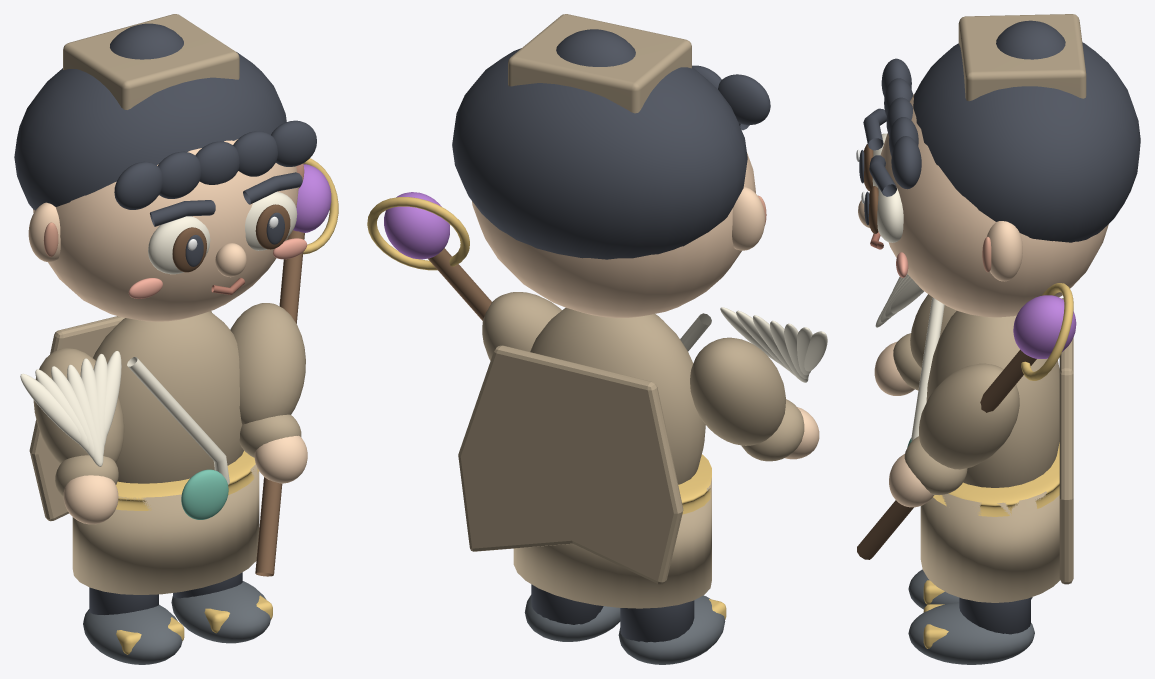
Rendered from jianyong.fbx.
3 renders of one model, left to right at view 1: azimuth 30°, elevation 25°; view 2: azimuth 150°, elevation 25°; view 3: azimuth 270°, elevation 25°, orthographic. The views are drawn at different scales.
Parts seen in each view (by area): view 1: hair_mass, face, body, robe_skirt, scholar_crown, sleeve, boot, boot.001, cape, spell_staff, sleeve.001, belt (+35 smaller); view 2: hair_mass, cape, face, body, robe_skirt, scholar_crown, sleeve.001, sleeve, boot, spell_gem, leg, staff_ring (+9 smaller); view 3: hair_mass, face, robe_skirt, body, scholar_crown, sleeve, boot.001, cape, spell_gem, belt, spell_staff, hair_bun (+20 smaller).
Boxes of the visible parts, x1,y1,x2,y2 form: hair_mass: (14,52,286,210); face: (33,139,298,321); body: (93,311,243,483); robe_skirt: (72,464,259,594); scholar_crown: (63,14,239,109); sleeve: (230,303,305,424); boot: (83,604,182,664); boot.001: (171,581,270,643); cape: (29,311,211,521); spell_staff: (255,230,304,576); sleeve.001: (33,348,124,463); belt: (116,450,258,510); hair_mass: (452,48,747,259); cape: (458,345,683,584); face: (472,153,755,317); body: (530,308,705,484); robe_skirt: (513,478,711,608); scholar_crown: (508,14,691,113); sleeve.001: (690,337,785,445); sleeve: (482,292,561,360); boot: (618,595,725,664); spell_gem: (384,192,449,259); leg: (620,600,694,642); staff_ring: (367,197,469,270); hair_mass: (913,42,1140,242); face: (877,93,1108,317); robe_skirt: (920,491,1059,602); body: (926,311,1059,487); scholar_crown: (958,14,1086,101); sleeve: (919,363,1019,469); boot.001: (908,602,1034,664); cape: (1059,298,1073,584); spell_gem: (1013,295,1076,358); belt: (933,442,1059,516); spell_staff: (857,349,1036,559); hair_bun: (996,20,1065,59).
Bounding box in the file's own units: 1.6 × 2.44 × 1.03.
